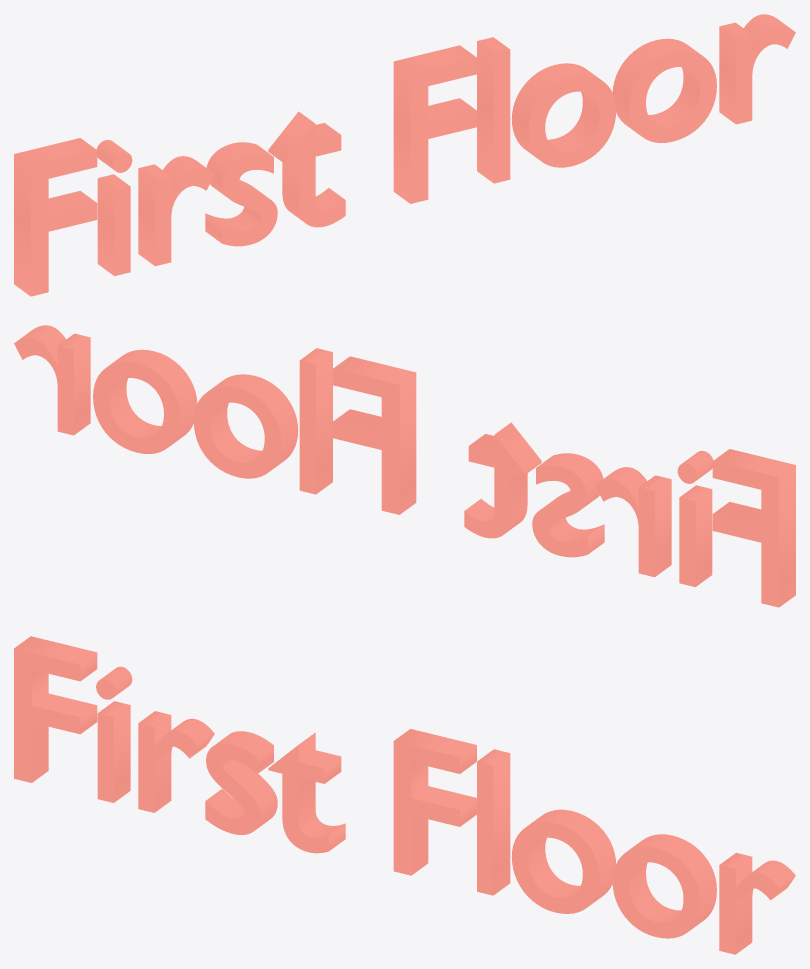
The model's file is firstFloorText.glb.
3 renders of one model, top to bottom at view 1: azimuth 30°, elevation 25°; view 2: azimuth 150°, elevation 25°; view 3: azimuth 330°, elevation 25°, orthographic.
Visible parts, largest first — view 1: Text; view 2: Text; view 3: Text.
Boxes of the visible parts, bbox=[...] form: Text: bbox=[14, 14, 795, 296]; Text: bbox=[14, 325, 795, 607]; Text: bbox=[14, 636, 795, 954].
Size of the model in its own units: 4.19 by 0.691 by 0.16.
